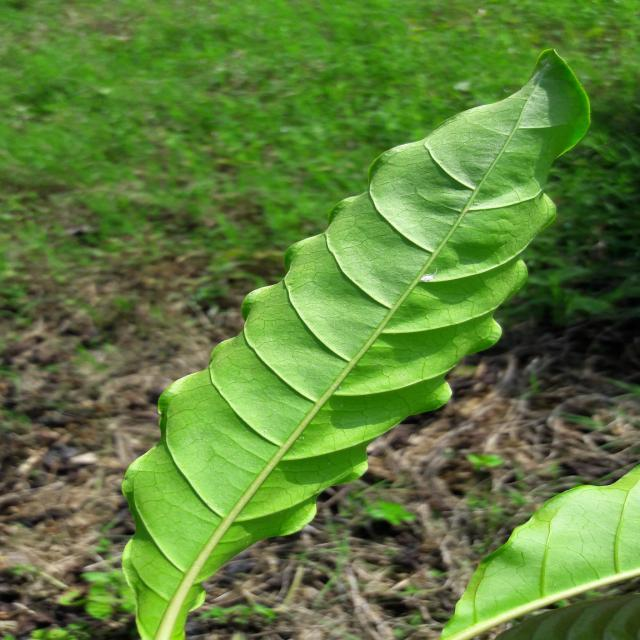Sanas: (119, 53, 592, 640)
